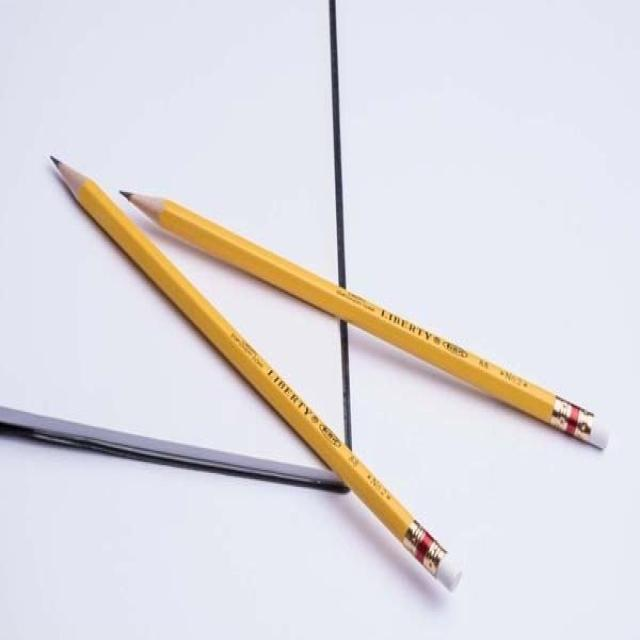pencil: (38, 151, 471, 604), (120, 189, 621, 464), (488, 606, 502, 607)
